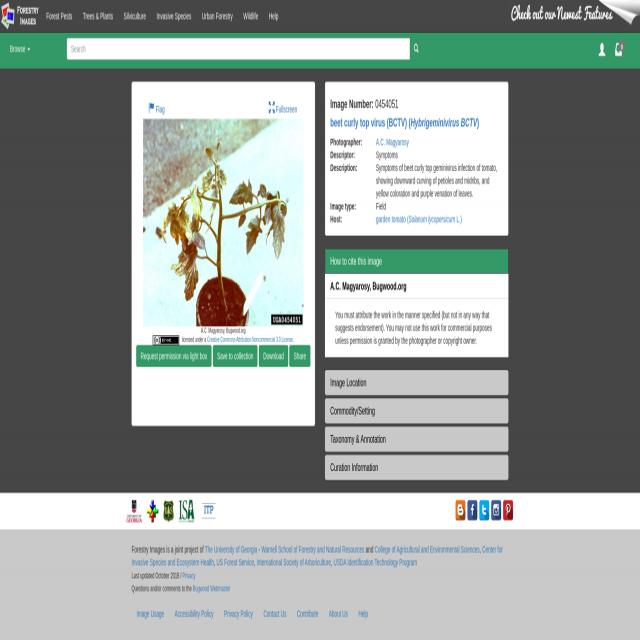button: (143, 119, 303, 327), (325, 370, 509, 396), (324, 274, 508, 299), (325, 455, 508, 480), (325, 400, 509, 423), (325, 428, 509, 451), (326, 251, 508, 271), (136, 346, 212, 367), (152, 0, 196, 32), (0, 0, 42, 32), (78, 0, 118, 32), (198, 0, 238, 32), (170, 601, 218, 627), (41, 0, 77, 32), (119, 0, 151, 32), (132, 601, 170, 627), (219, 602, 258, 627), (4, 33, 34, 65), (213, 346, 257, 367), (259, 601, 291, 627), (292, 601, 324, 627), (238, 0, 262, 32), (324, 601, 353, 627), (259, 346, 289, 367), (264, 0, 283, 32), (594, 33, 610, 68), (611, 35, 627, 68), (353, 601, 373, 627), (178, 500, 200, 523), (200, 500, 222, 523), (127, 500, 147, 523), (290, 346, 310, 367), (147, 500, 163, 523), (163, 500, 179, 523), (410, 38, 422, 60), (153, 336, 179, 345), (467, 500, 478, 521), (503, 500, 513, 521), (456, 500, 466, 521), (479, 500, 489, 521), (491, 500, 501, 521)
field: (67, 38, 410, 60)
